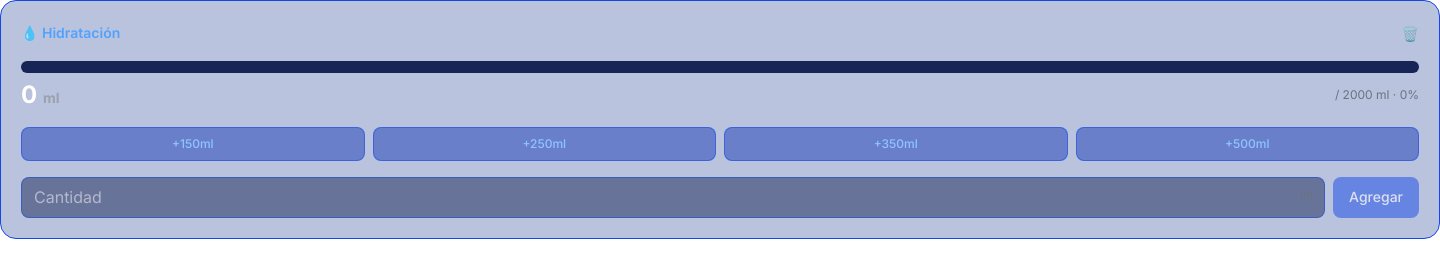
HydrationTracker › reset button shows confirm state on click
Click the button named "Reiniciar": (1410, 34) [1402,24,1419,44]
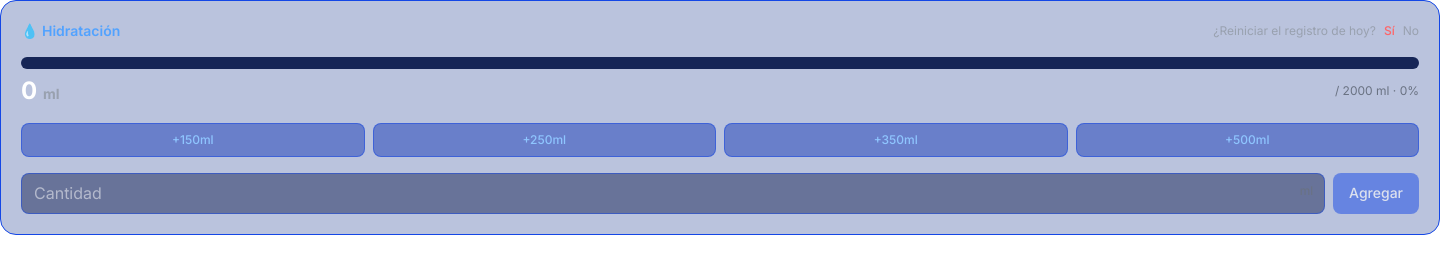
Expected: the text "¿Reiniciar el registro de hoy?" is shown, [1213,23,1376,39]
